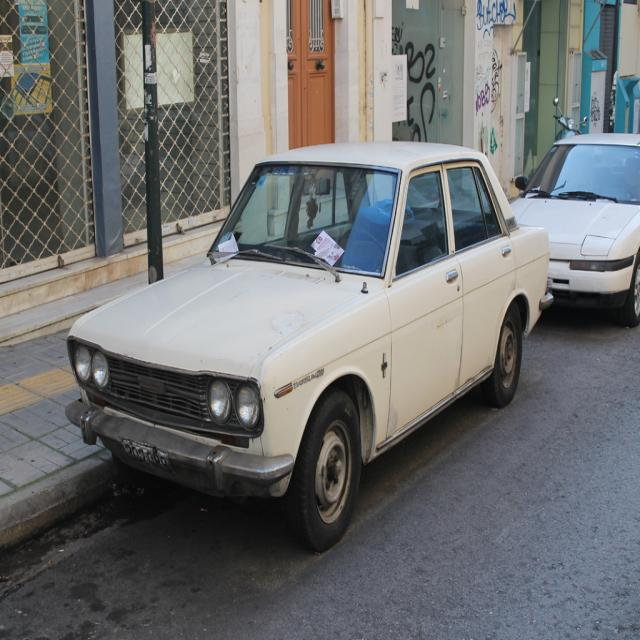car: (63, 131, 553, 555)
